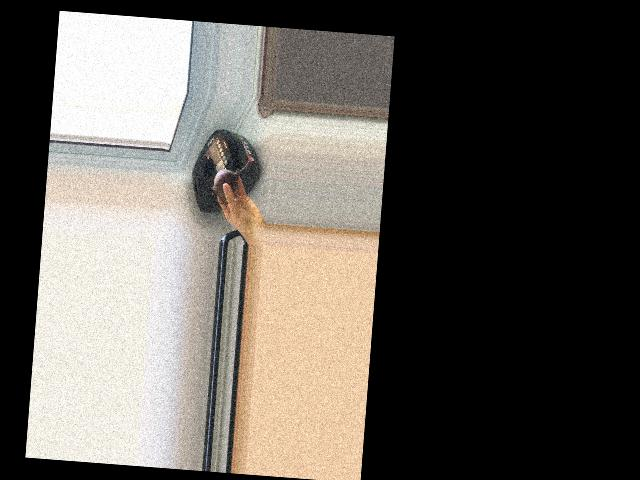beet: (210, 157, 249, 205)
